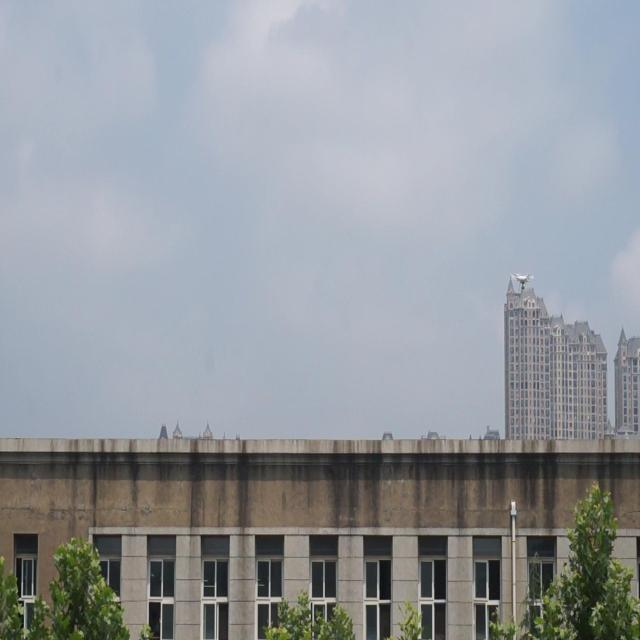drone: (510, 268, 534, 296)
